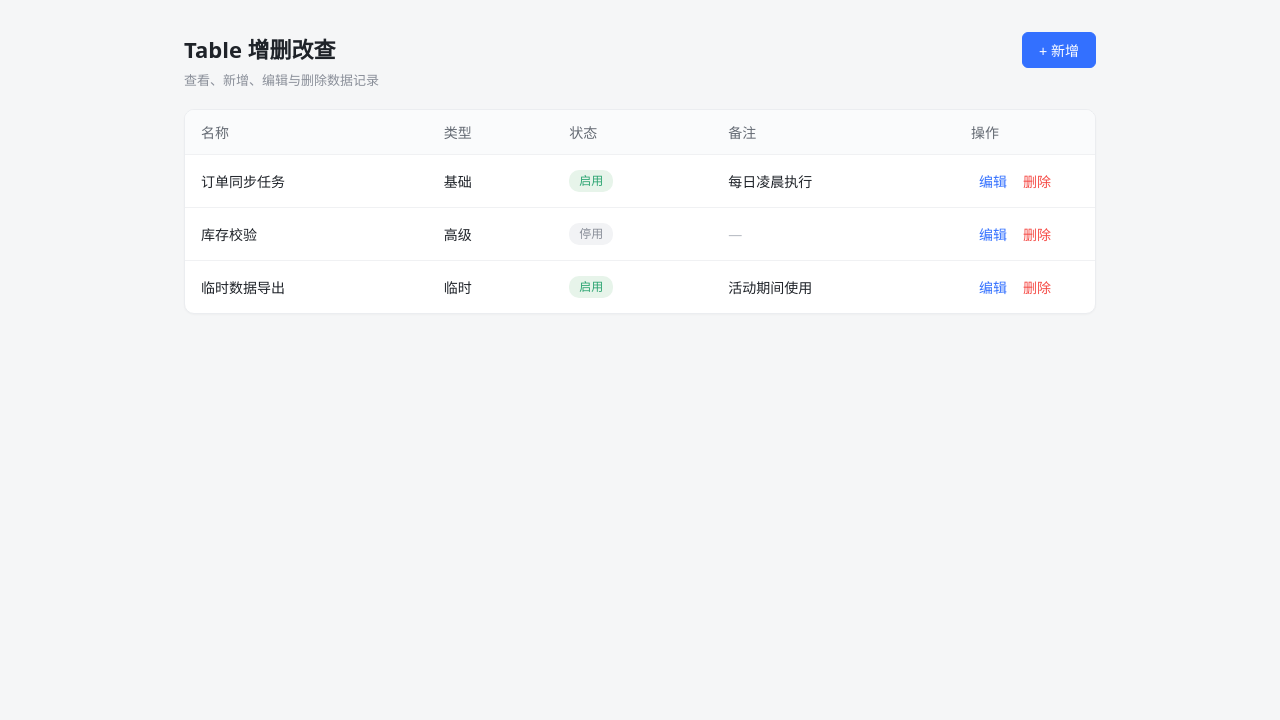
Scenario: App CRUD 流程 › 通过弹窗新增一条记录
The image size is (1280, 720).
Expected: the text "订单同步任务" is shown, x1=185 y1=154 x2=428 y2=208
Click the button "+ 新增" at (1059, 50), box x1=1022 y1=32 x2=1096 y2=68
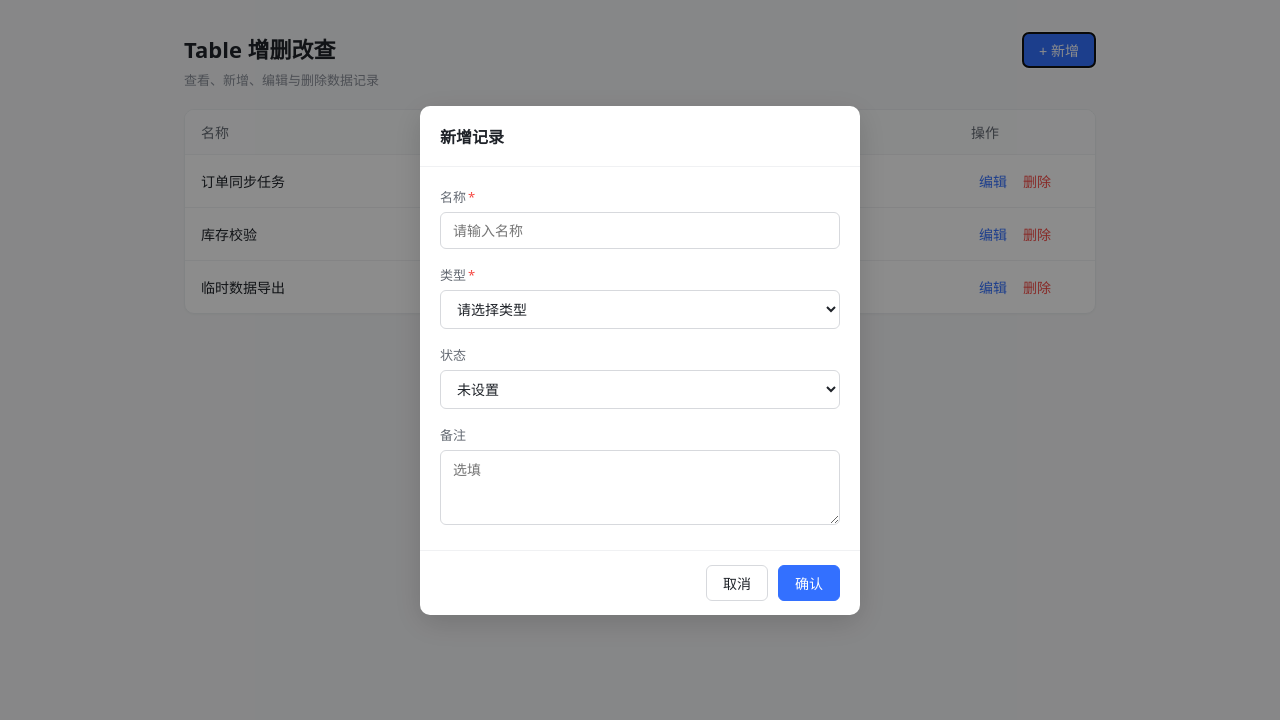
Result: the text "新增记录" is shown at x1=420 y1=106 x2=860 y2=166
Type "自动化测试记录" into the field with placeholder "请输入名称" at (640, 230), box x1=440 y1=212 x2=840 y2=248
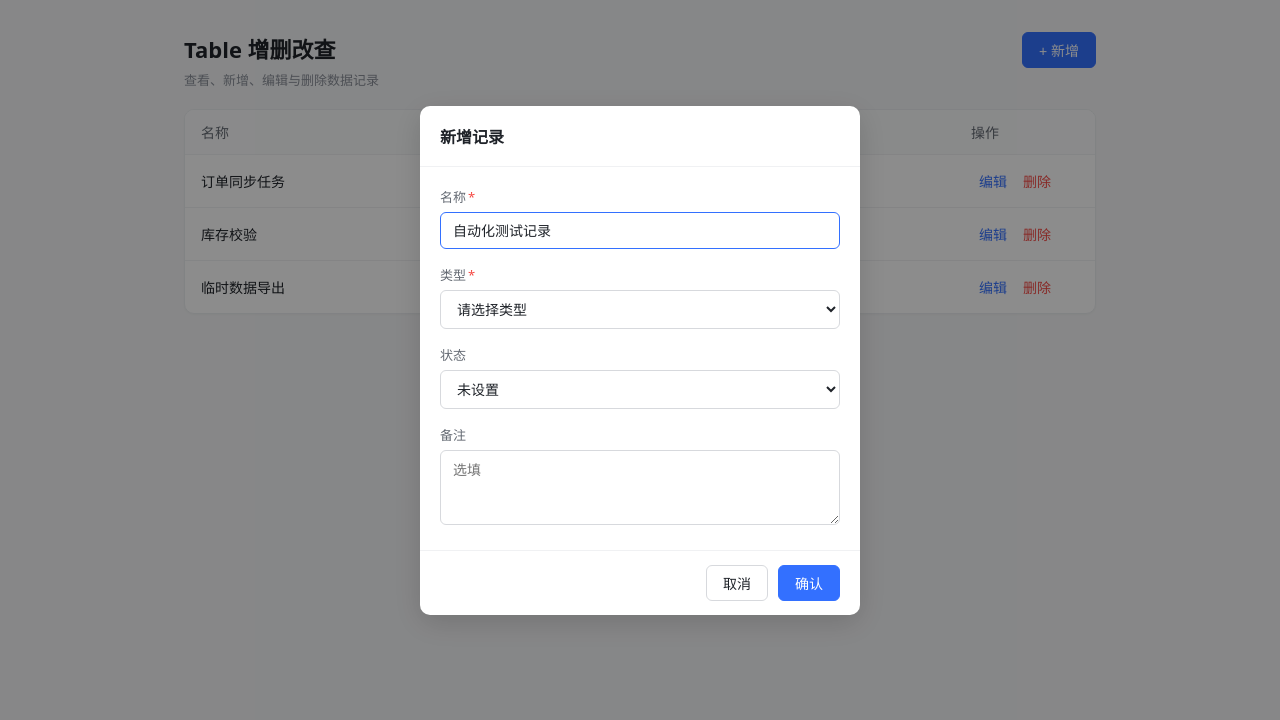
Note: 类型为 select
Select "高级" in the dropdown showing "请选择类型" at (640, 309), box x1=440 y1=290 x2=840 y2=328
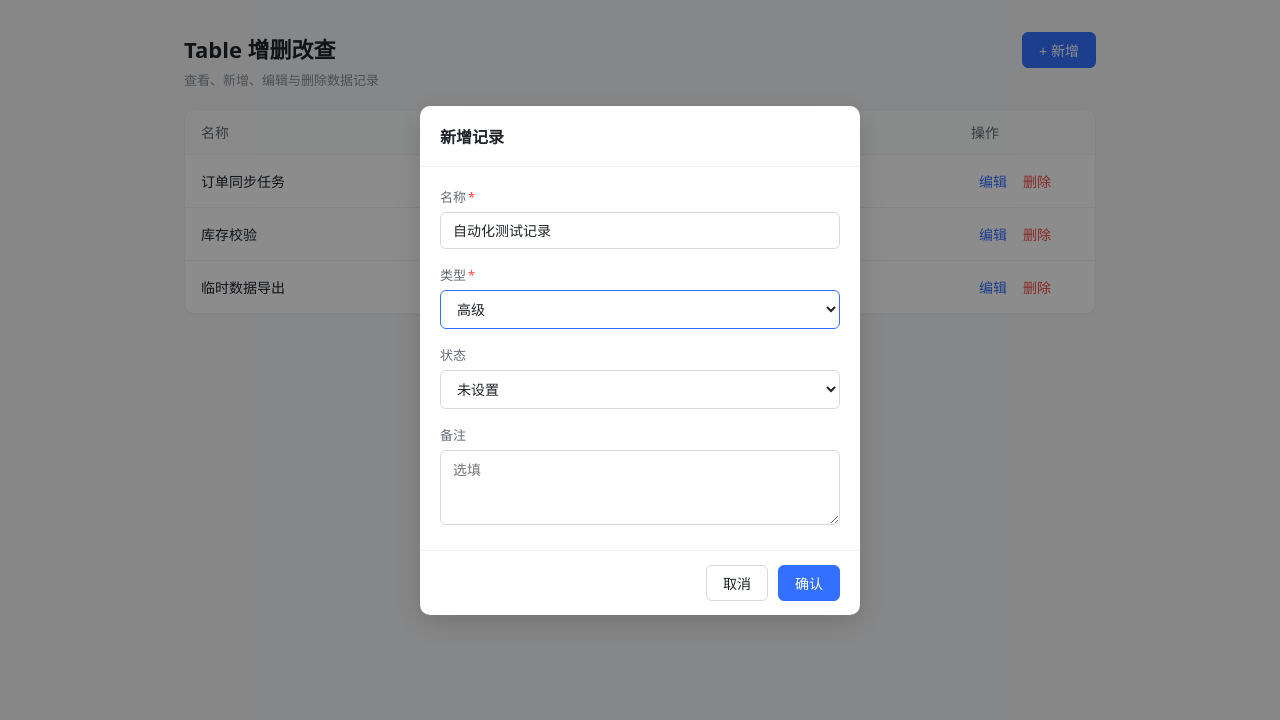
Click the button "确认" at (809, 582), box x1=778 y1=564 x2=840 y2=600
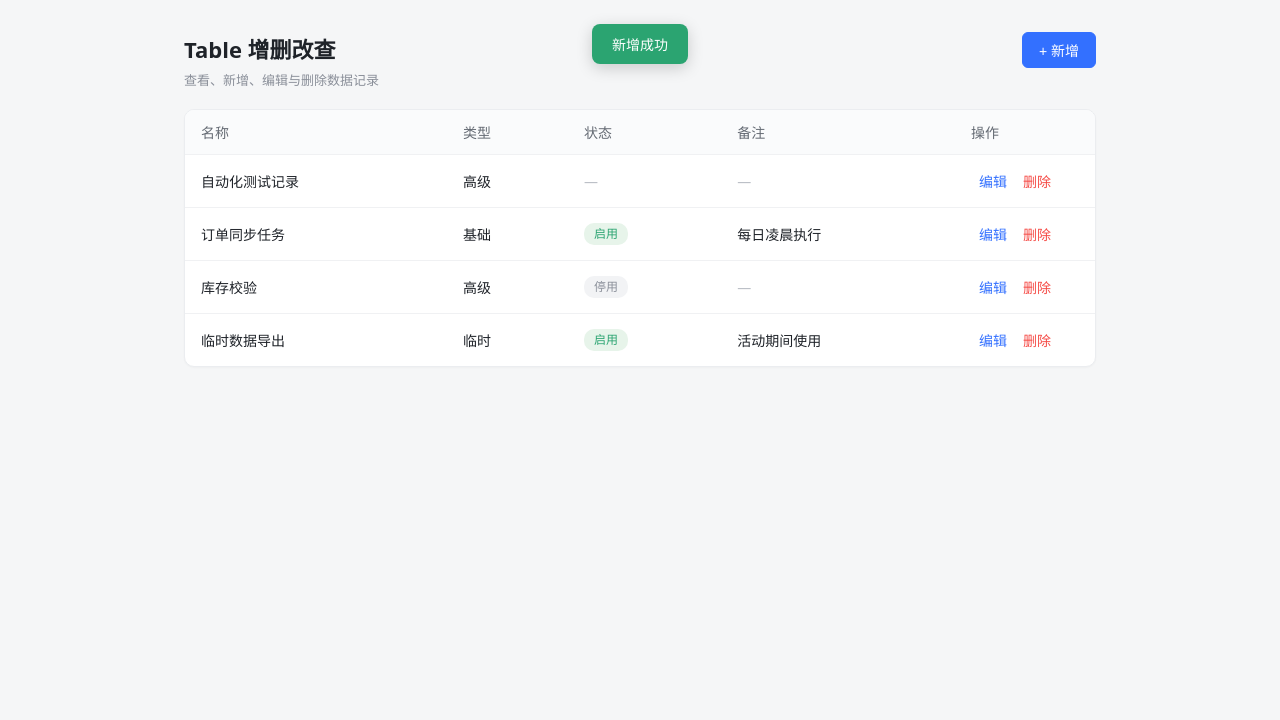
Result: the text "新增成功" is shown at x1=592 y1=24 x2=688 y2=64
Result: the text "自动化测试记录" is shown at x1=185 y1=154 x2=447 y2=208
